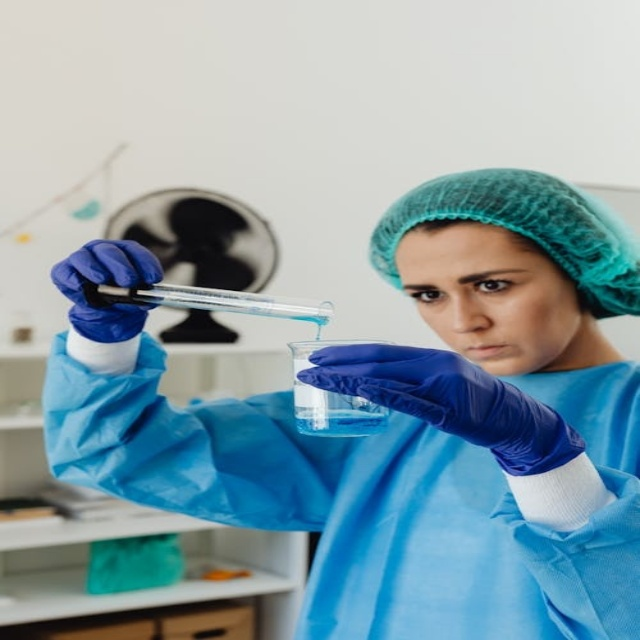Guantes: (293, 342, 589, 476), (51, 239, 165, 346)
Sin_gafas: (404, 264, 538, 307)
Sin_mascara: (465, 342, 522, 372)
